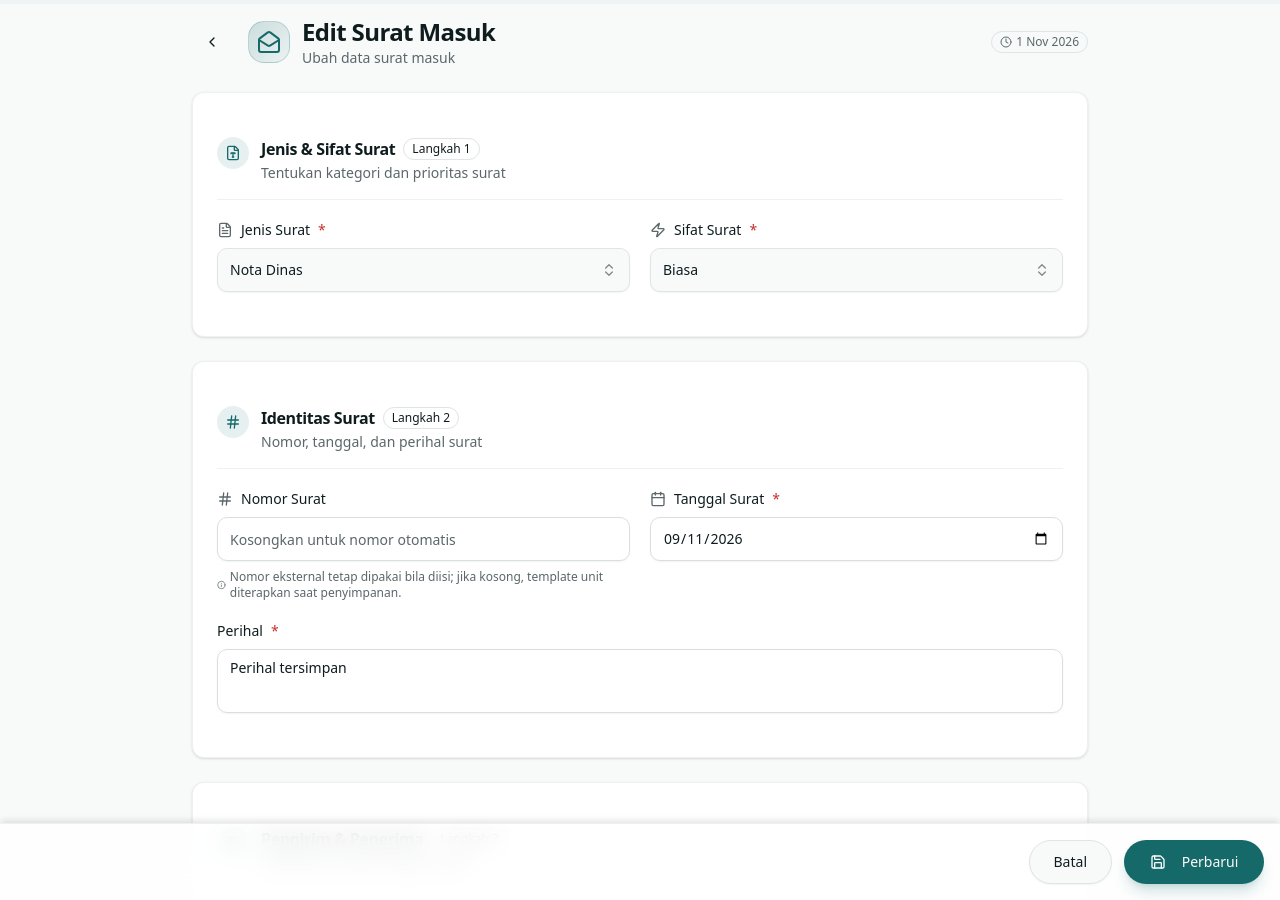
it: form surat masuk › keeps unsaved edits and stored document metadata when file capabilities recover
The image size is (1280, 900).
Replace the text in the text box labelled "Perihal *" with "Perubahan saat layanan pulih" at x=640, y=681, box x1=217 y1=649 x2=1063 y2=713
(page scrolled)
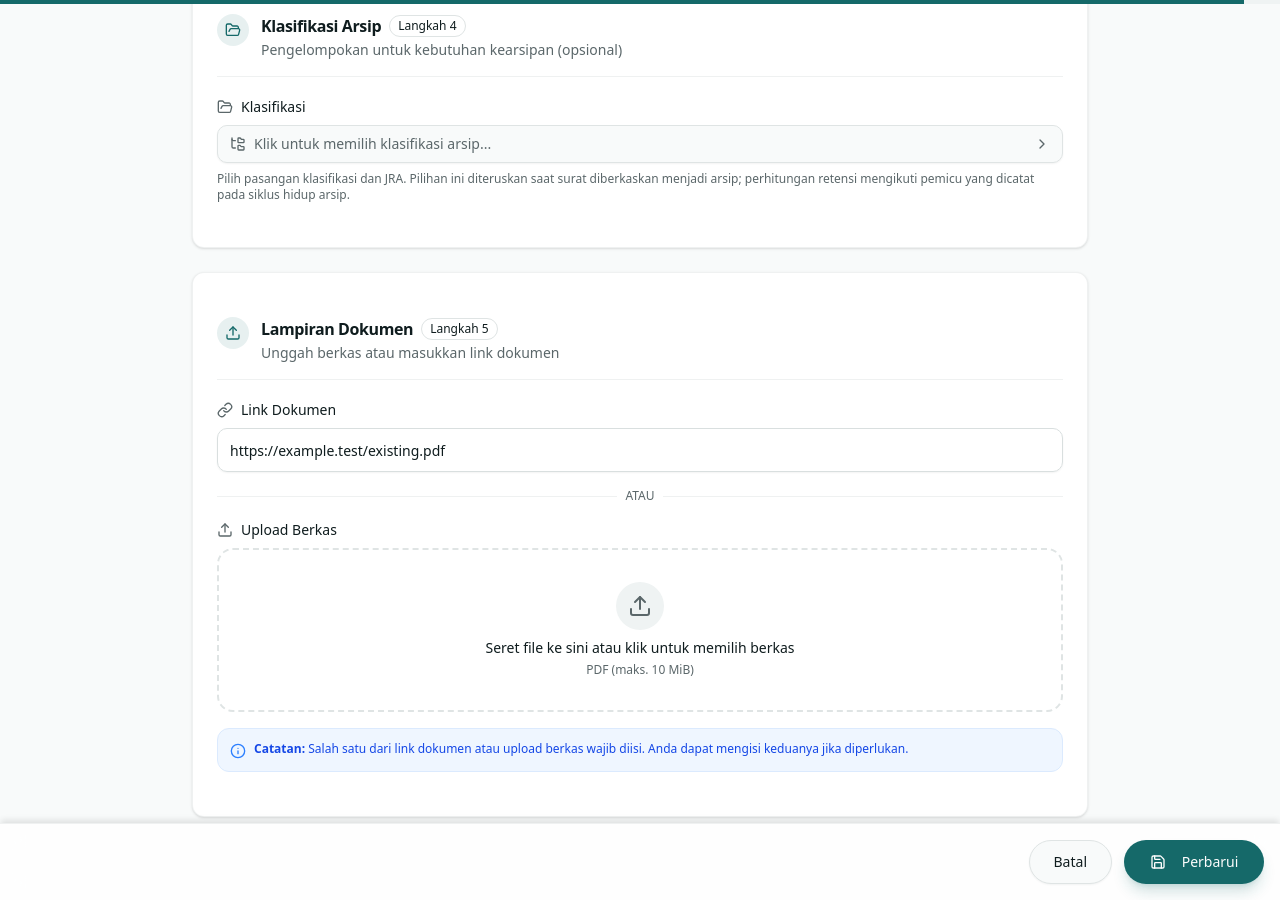
Check: the field labelled "Link Dokumen" holds "https://example.test/existing.pdf", box x1=217 y1=428 x2=1063 y2=472
